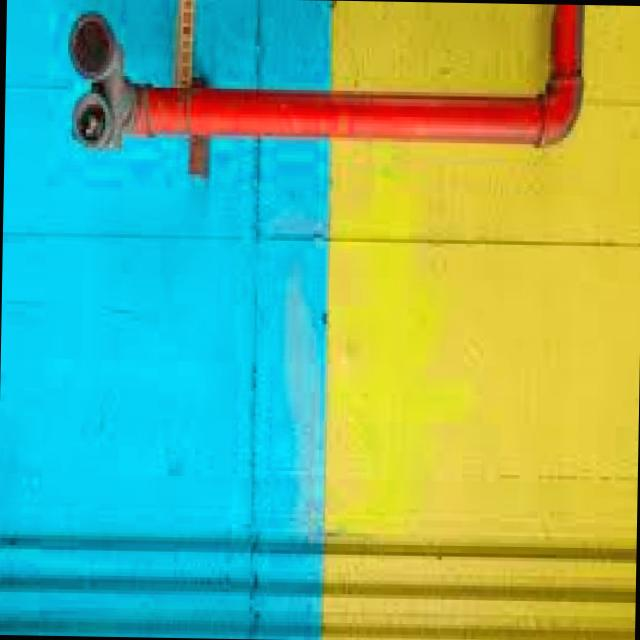gas: (115, 4, 581, 148)
